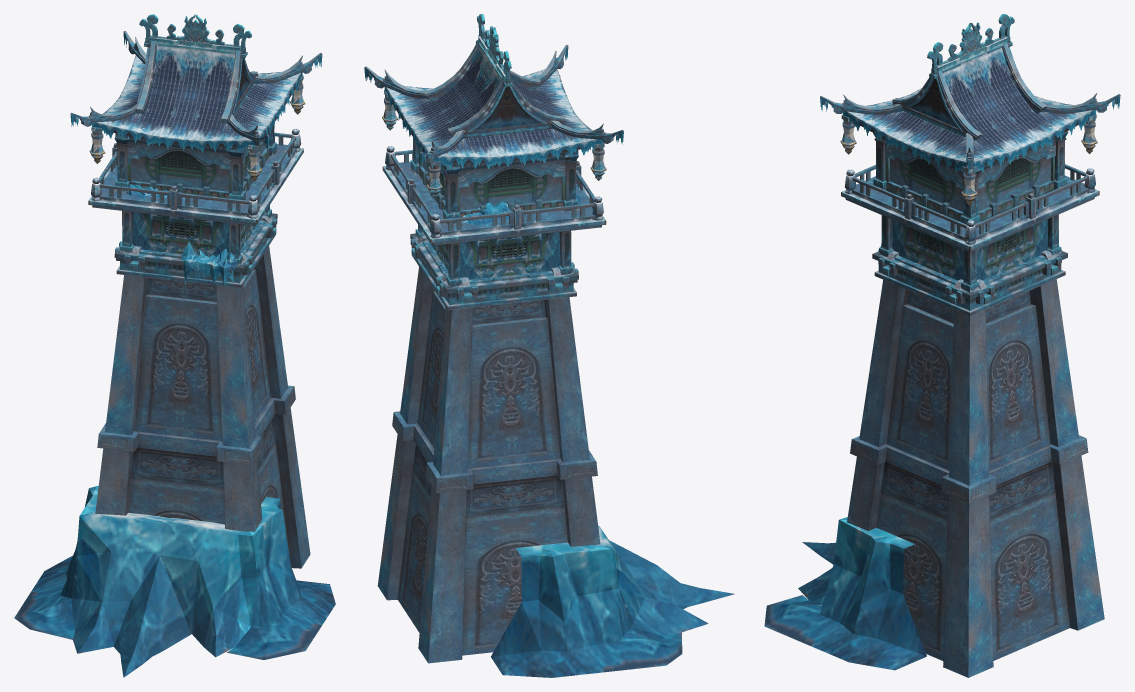
Rendered from 5014_Item_fangzi_01.FBX.
The picture shows the model from 3 angles, left to right: view 1: azimuth 30°, elevation 25°; view 2: azimuth 150°, elevation 25°; view 3: azimuth 270°, elevation 25°; orthographic projection. The views are drawn at different scales.
Visible parts, largest first — view 1: 5014_Item_fangzi_01; view 2: 5014_Item_fangzi_01; view 3: 5014_Item_fangzi_01.
Boxes of the visible parts, x1,y1,x2,y2 form: 5014_Item_fangzi_01: [14, 14, 335, 677]; 5014_Item_fangzi_01: [364, 14, 734, 677]; 5014_Item_fangzi_01: [764, 14, 1120, 677].
Bounding box in the file's own units: 2743 × 2684 × 4970.
